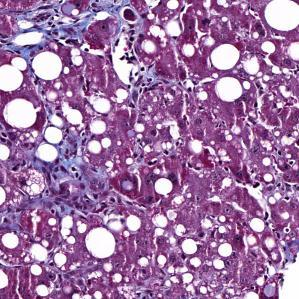fibrosis: (12, 0, 107, 54)
